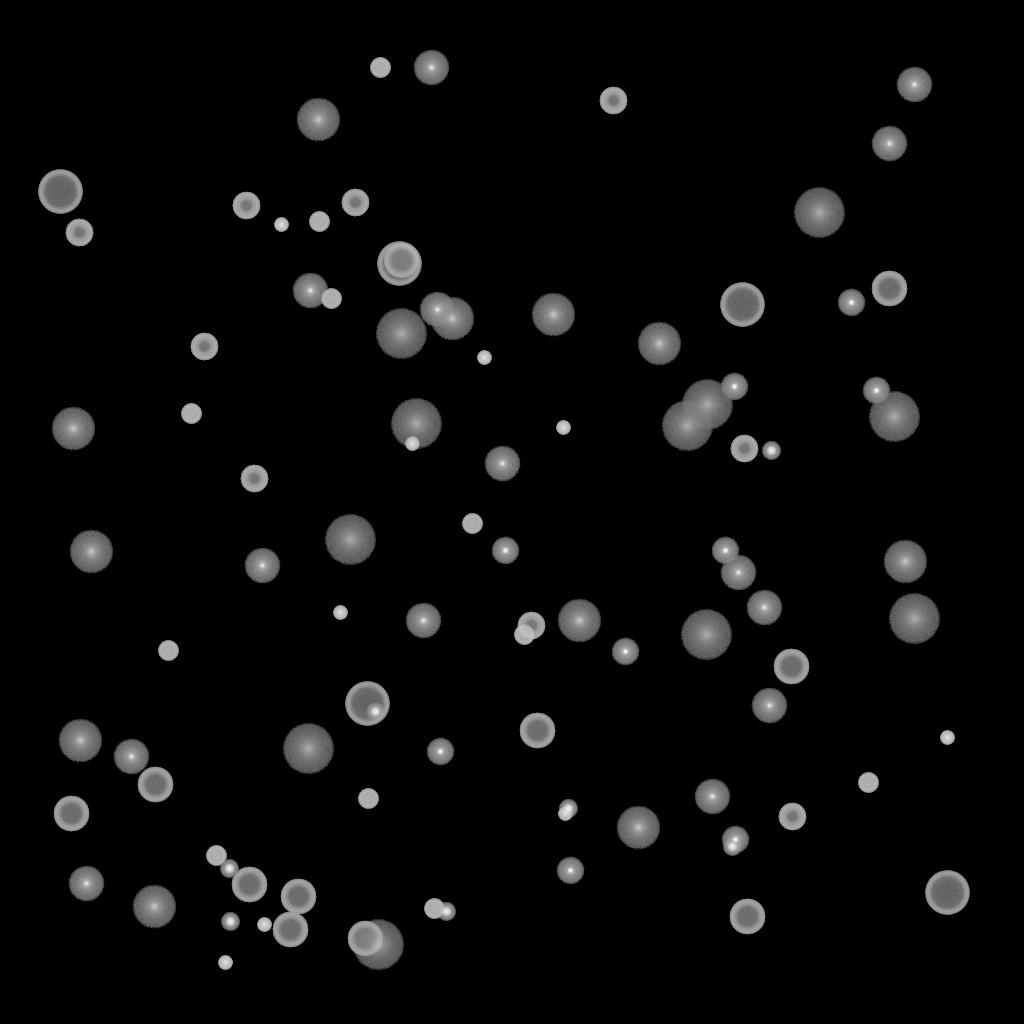depth:-10: (862, 377, 890, 405), (711, 537, 739, 565), (491, 537, 519, 565), (611, 638, 639, 666), (720, 373, 748, 401), (837, 289, 865, 317), (556, 857, 584, 885), (721, 826, 749, 854), (426, 738, 454, 766)
depth:-20: (221, 913, 239, 931), (437, 903, 455, 921), (762, 442, 780, 460), (723, 838, 741, 856), (220, 860, 238, 878), (559, 800, 577, 818), (366, 703, 384, 721)
depth:-30: (556, 421, 570, 435), (940, 731, 954, 745), (477, 351, 491, 365), (274, 218, 288, 232), (333, 606, 347, 620), (405, 437, 419, 451), (218, 956, 232, 970), (257, 918, 271, 932), (558, 807, 572, 821)
depth:-40: (358, 789, 378, 809), (424, 899, 444, 919), (181, 404, 201, 424), (321, 289, 341, 309), (514, 625, 534, 645), (858, 773, 878, 793), (206, 846, 226, 866), (309, 212, 329, 232), (158, 641, 178, 661), (370, 58, 390, 78), (462, 514, 482, 534)
depth:-50: (232, 192, 260, 220), (778, 803, 806, 831), (190, 333, 218, 361), (517, 612, 545, 640), (65, 219, 93, 247), (730, 435, 758, 463), (240, 465, 268, 493), (341, 189, 369, 217), (599, 87, 627, 115)
depth:-60: (272, 912, 308, 948), (383, 243, 419, 279), (53, 796, 89, 832), (519, 713, 555, 749), (729, 899, 765, 935), (347, 921, 383, 957), (280, 879, 316, 915), (773, 649, 809, 685), (137, 767, 173, 803), (871, 271, 907, 307), (231, 867, 267, 903)
depth:-70: (720, 283, 764, 327), (377, 242, 421, 286), (345, 682, 389, 726), (925, 871, 969, 915), (38, 170, 82, 214)
depth:0: (405, 603, 441, 639), (484, 446, 520, 482), (720, 555, 756, 591), (68, 866, 104, 902), (419, 292, 455, 328), (896, 67, 932, 103), (292, 273, 328, 309), (413, 50, 449, 86), (694, 779, 730, 815), (113, 739, 149, 775), (751, 688, 787, 724), (871, 126, 907, 162), (746, 590, 782, 626), (244, 548, 280, 584)
depth:10: (132, 885, 176, 929), (58, 719, 102, 763), (637, 322, 681, 366), (531, 293, 575, 337), (883, 540, 927, 584), (69, 530, 113, 574), (430, 297, 474, 341), (557, 599, 601, 643), (296, 98, 340, 142), (51, 407, 95, 451), (616, 806, 660, 850)
depth:20: (324, 515, 376, 565), (681, 380, 733, 430), (282, 724, 334, 774), (375, 309, 427, 359), (793, 188, 845, 238), (888, 594, 940, 644), (390, 399, 442, 449), (680, 610, 732, 660), (352, 920, 404, 970), (868, 392, 920, 442), (661, 401, 713, 451)
